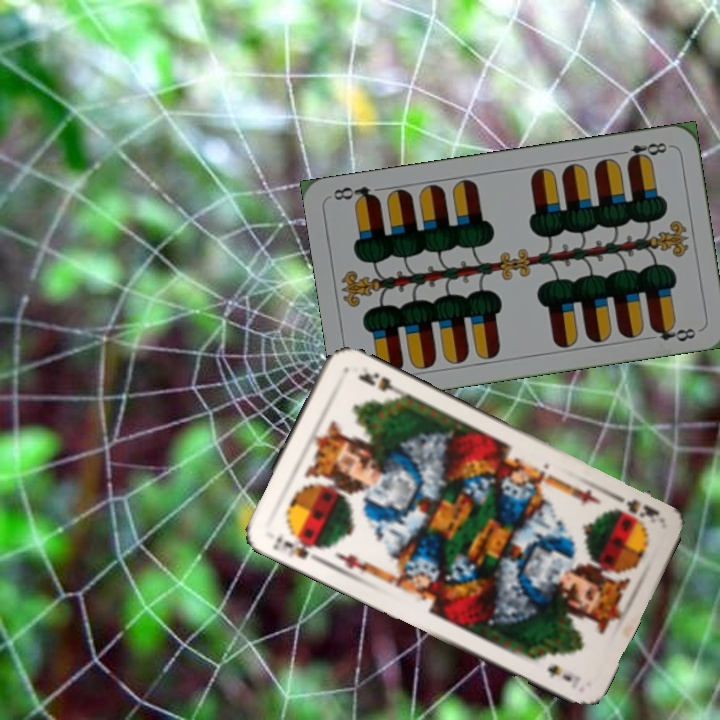E8: (614, 138, 670, 165)
SK: (268, 529, 324, 562), (607, 487, 662, 520)
